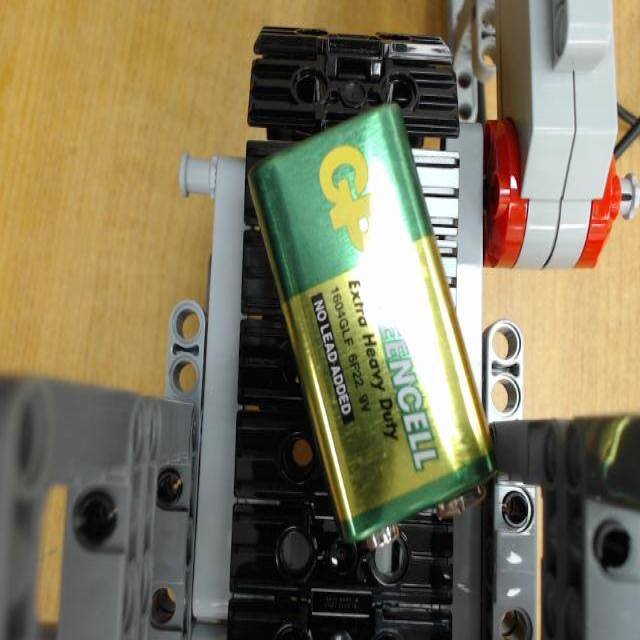9V: (246, 101, 496, 548)
